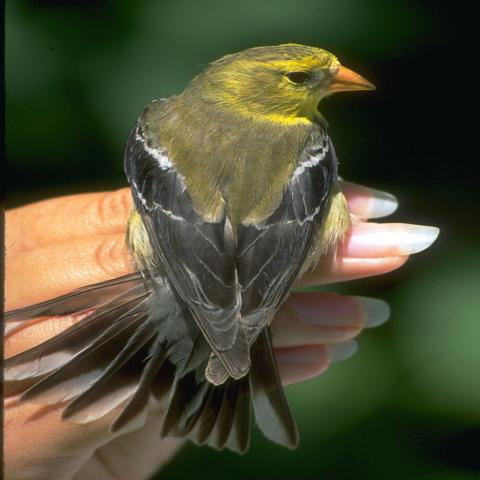bird: (0, 44, 379, 455)
